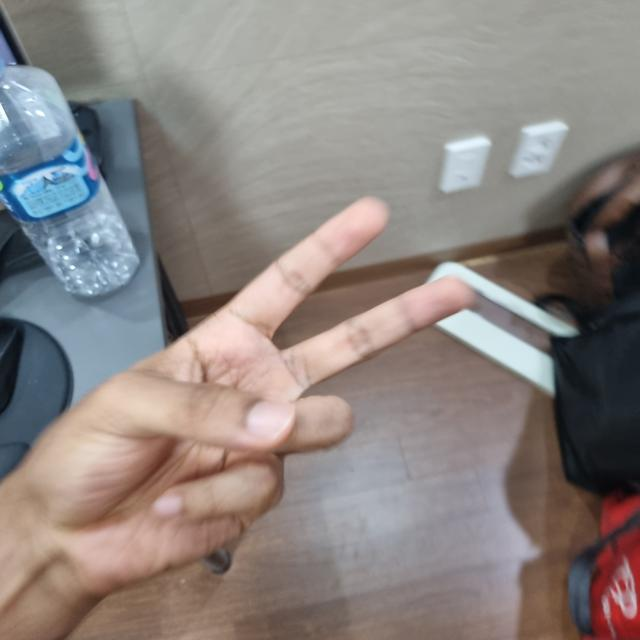Scissors: (0, 79, 633, 638)
